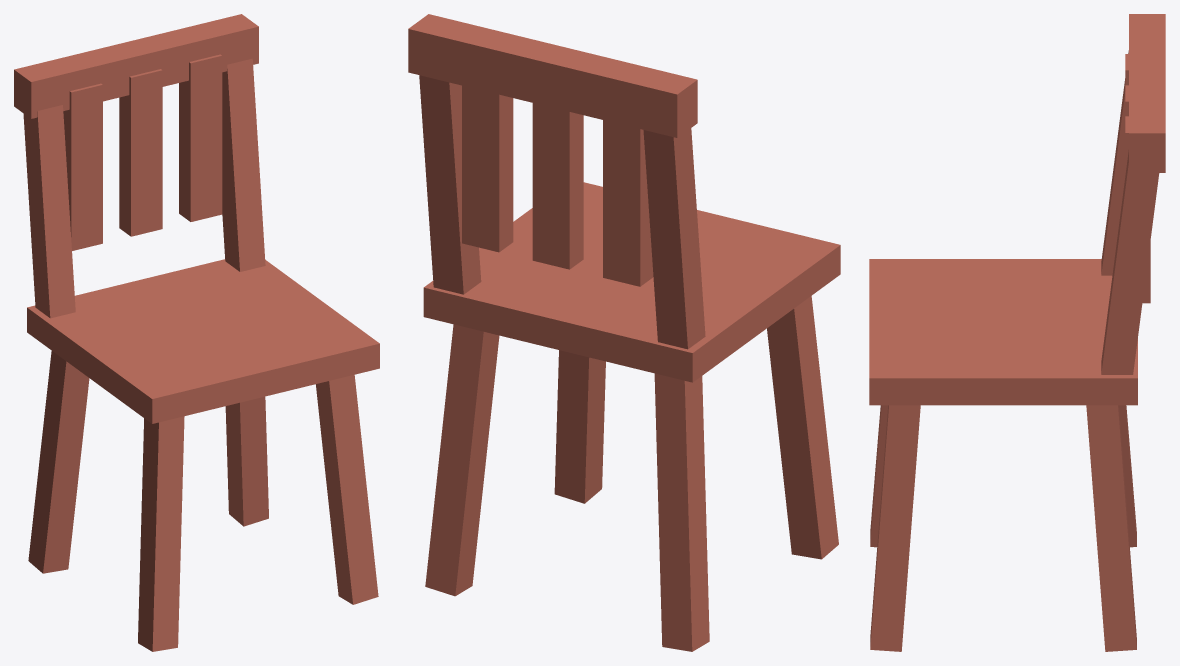
File: PlasticChairHigh.glb
3 renders of one model, left to right at view 1: azimuth 30°, elevation 25°; view 2: azimuth 150°, elevation 25°; view 3: azimuth 270°, elevation 25°, orthographic. The views are drawn at different scales.
Parts seen in each view (by area): view 1: ST_PlasticChairHigh_ST_plastic_red.001; view 2: ST_PlasticChairHigh_ST_plastic_red.001; view 3: ST_PlasticChairHigh_ST_plastic_red.001.
Boxes of the visible parts, left/top/right/bottom form: ST_PlasticChairHigh_ST_plastic_red.001: left=14, top=14, right=379, bottom=651; ST_PlasticChairHigh_ST_plastic_red.001: left=408, top=14, right=840, bottom=651; ST_PlasticChairHigh_ST_plastic_red.001: left=869, top=14, right=1165, bottom=651.
Bounding box in the file's own units: 0.42 × 0.8559 × 0.4415.
